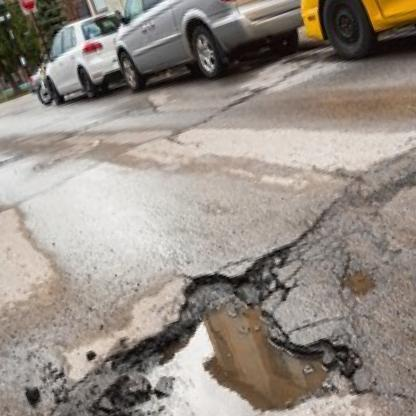pothole: (67, 226, 376, 416)
